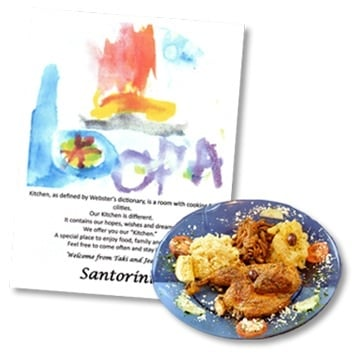sushi: (150, 199, 352, 344), (51, 129, 120, 173)
